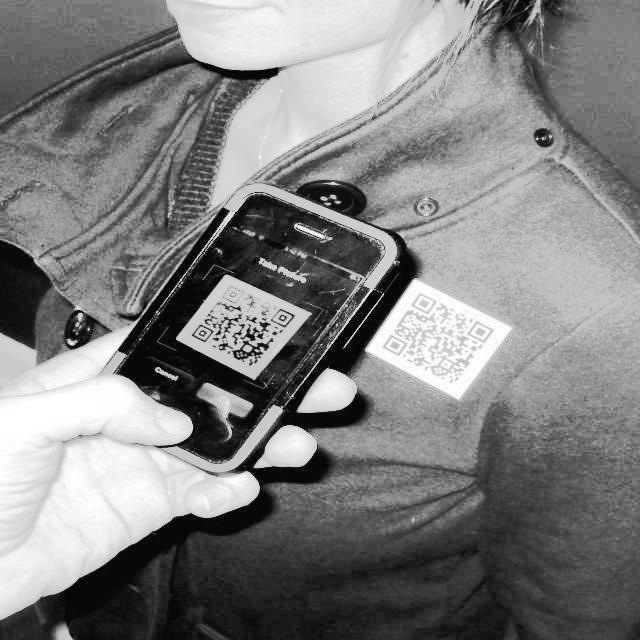qr_code: (382, 293, 494, 385), (191, 285, 297, 368)
